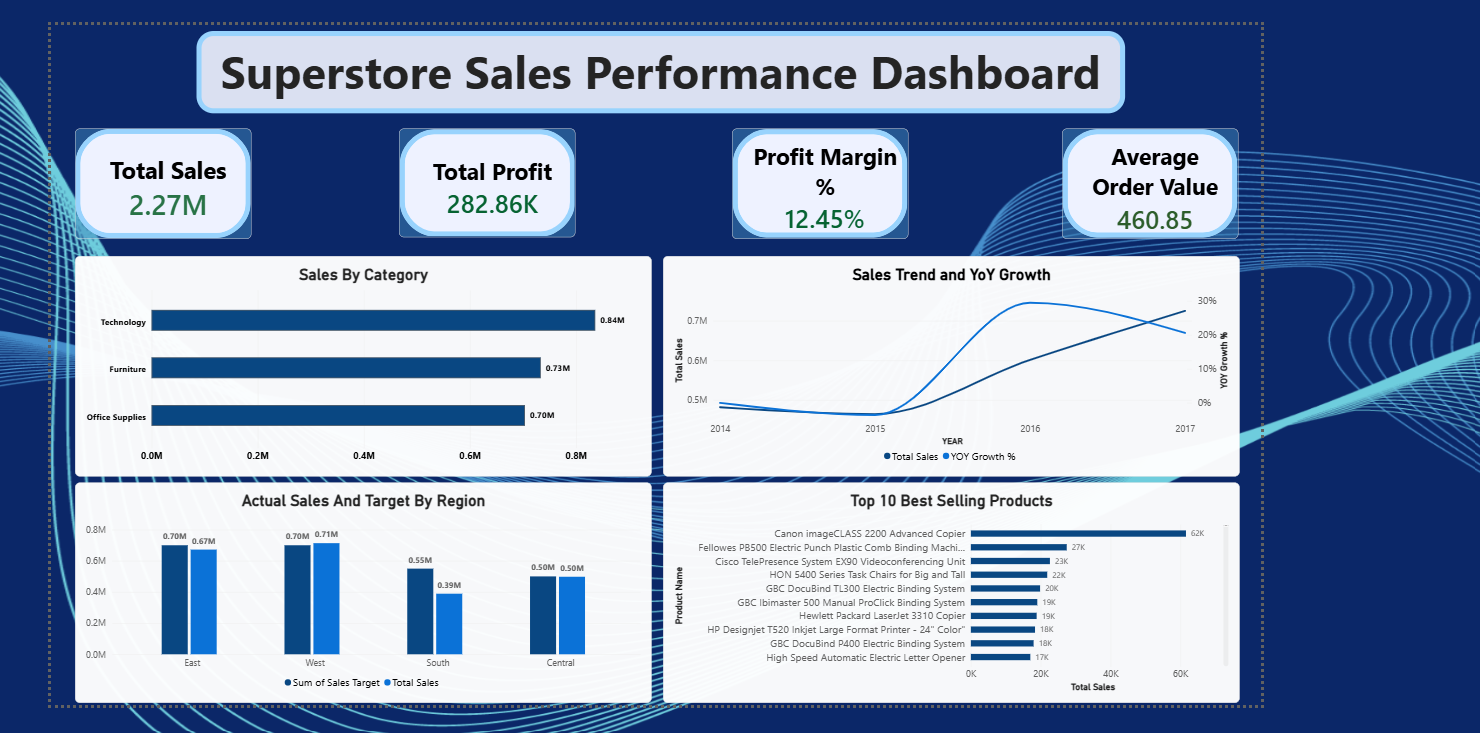

Layout of this report page (visuals, bound fields, positions):
{"tool":"powerbi","page":{"name":"Page 1","canvas":[1920,1080],"ordinal":0},"visuals":[{"type":"cardVisual","fields":{"Data":["Orders.Total Sales"]},"box":[37.5,165,280,175],"z":0},{"type":"cardVisual","fields":{"Data":["Orders.Total Profit"]},"box":[552.5,165,280,172.5],"z":1000},{"type":"cardVisual","fields":{"Data":["Orders.Profit Margin %"]},"box":[1080,165,280,175],"z":2000},{"type":"clusteredBarChart","title":"Sales By Category","fields":{"Category":["Products.Category"],"Y":["Orders.Total Sales"]},"box":[37.5,367.5,915,350],"z":4000},{"type":"lineChart","title":"Sales Trend and YoY Growth","fields":{"Category":["DateTable.YEAR"],"Y":["Orders.Total Sales"],"Y2":["Orders.YOY Growth %"]},"box":[972.5,367.5,915,350],"z":5000},{"type":"clusteredColumnChart","title":"Actual Sales And Target By Region","fields":{"Category":["Region_Targets.Region"],"Y":["Sum(Region_Targets.Sales Target)","Orders.Total Sales"]},"box":[37.5,725,915,350],"z":6000},{"type":"clusteredBarChart","title":"Top 10 Best Selling Products","fields":{"Category":["Products.Product Name"],"Y":["Orders.Total Sales"]},"box":[972.5,725,915,350],"z":7000},{"type":"textbox","box":[231,9.5,1473.8,131],"z":8000},{"type":"cardVisual","fields":{"Data":["Orders.Average Order Value"]},"box":[1604.8,164.3,280,175],"z":8001}]}

Visuals, with their boxes on the page's 1920x1080 design canvas (x1, y1, x2, y2). These are canvas units, not pixel positions in the 1480x733 screenshot, which may show the page scaled, cropped or inside an application window:
cardVisual - Orders.Total Sales: (38, 165, 318, 340)
cardVisual - Orders.Total Profit: (552, 165, 832, 338)
cardVisual - Orders.Profit Margin %: (1080, 165, 1360, 340)
"Sales By Category" clusteredBarChart: (38, 368, 952, 718)
"Sales Trend and YoY Growth" lineChart: (972, 368, 1888, 718)
"Actual Sales And Target By Region" clusteredColumnChart: (38, 725, 952, 1075)
"Top 10 Best Selling Products" clusteredBarChart: (972, 725, 1888, 1075)
textbox: (231, 10, 1705, 140)
cardVisual - Orders.Average Order Value: (1605, 164, 1885, 339)
